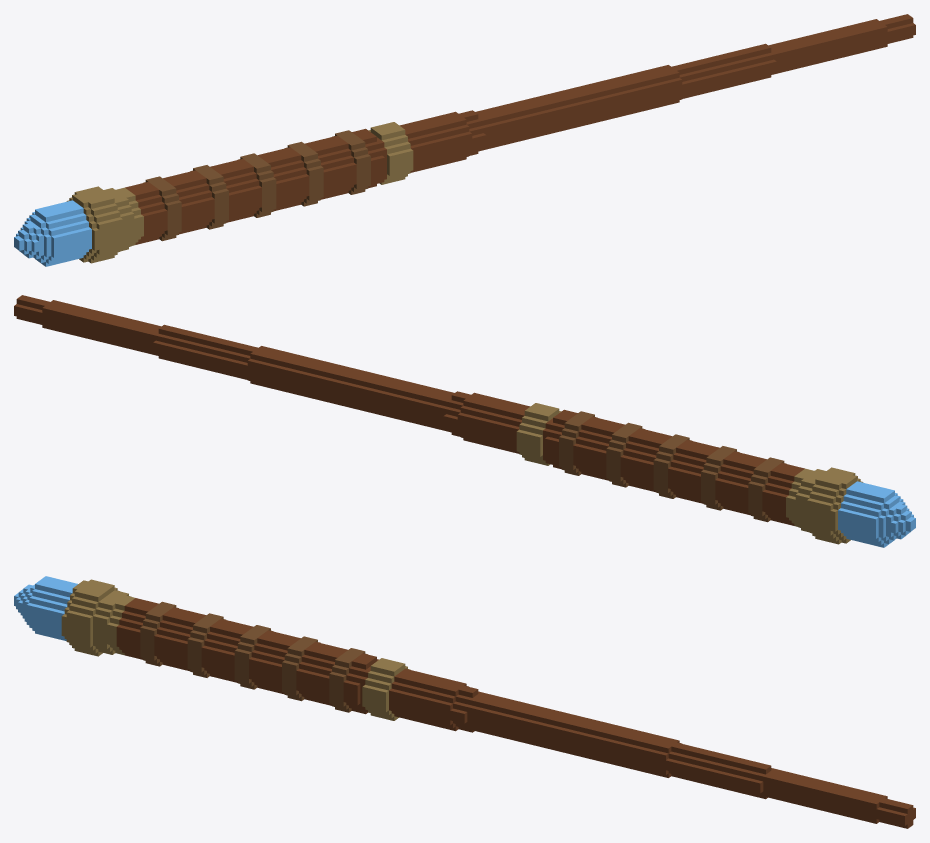
File: crystal_socket_wand.glb
3 renders of one model, top to bottom at view 1: azimuth 30°, elevation 25°; view 2: azimuth 150°, elevation 25°; view 3: azimuth 330°, elevation 25°, orthographic.
Visible parts, largest first — view 1: crystal_socket_wand:compound; view 2: crystal_socket_wand:compound; view 3: crystal_socket_wand:compound.
Part boxes in pixels (x1=…): crystal_socket_wand:compound: x1=14, y1=14, x2=915, y2=266; crystal_socket_wand:compound: x1=14, y1=295, x2=915, y2=547; crystal_socket_wand:compound: x1=14, y1=576, x2=915, y2=828.
Size of the model in its own units: 0.378 by 0.024 by 0.024.
